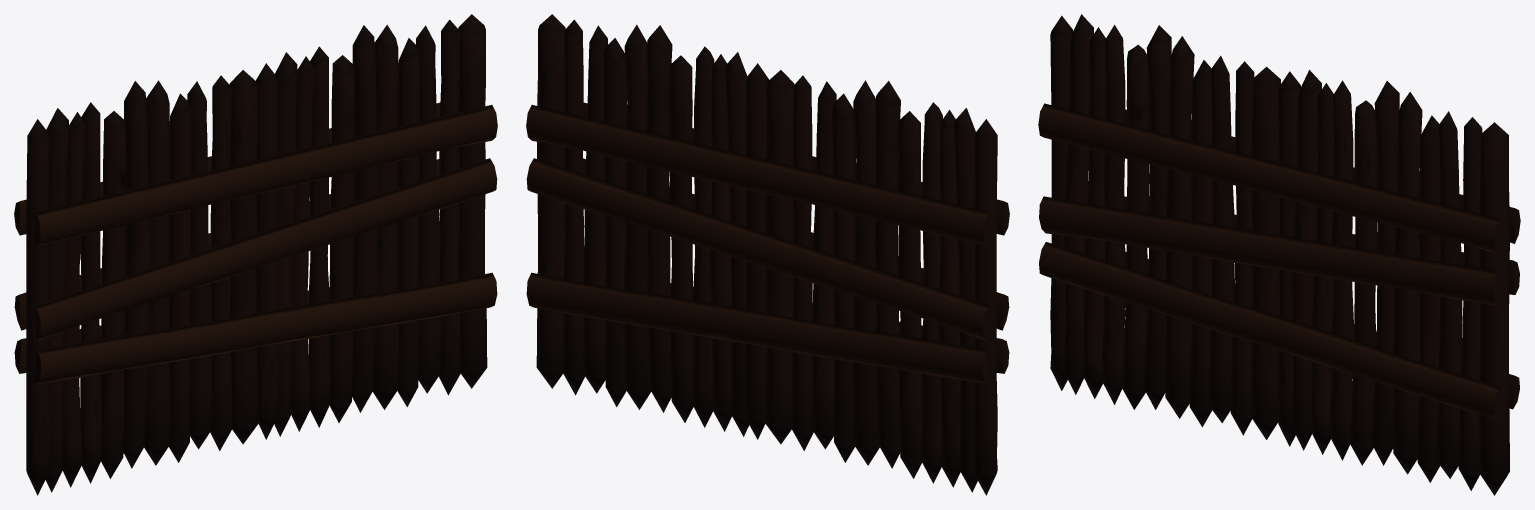
File: WoodBarricade_Damaged.fbx
The picture shows the model from 3 angles, left to right: view 1: azimuth 30°, elevation 25°; view 2: azimuth 150°, elevation 25°; view 3: azimuth 330°, elevation 25°; orthographic projection.
Visible parts, largest first — view 1: WoodBarricade_Damaged; view 2: WoodBarricade_Damaged; view 3: WoodBarricade_Damaged.
Boxes of the visible parts, x1,y1,x2,y2 form: WoodBarricade_Damaged: [14, 14, 497, 495]; WoodBarricade_Damaged: [526, 14, 1009, 495]; WoodBarricade_Damaged: [1038, 14, 1520, 495].
Size of the model in its own units: 885 by 725 by 93.1.
